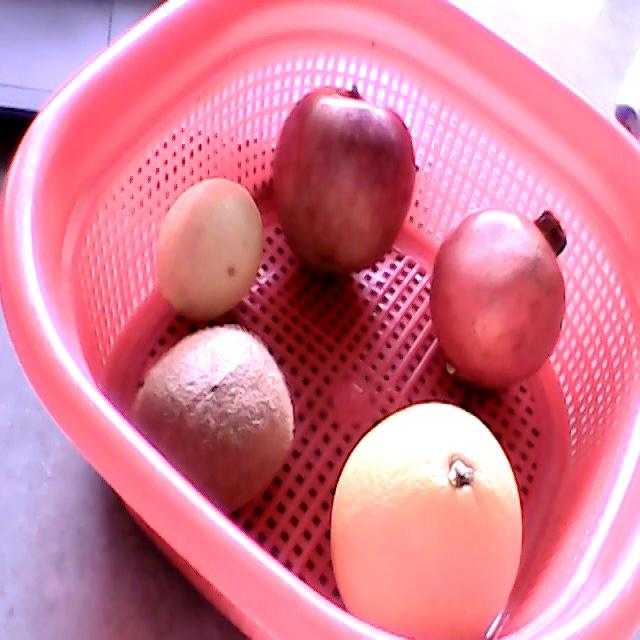apple: (273, 84, 417, 275)
kiwi: (129, 327, 296, 516)
lemon: (157, 179, 264, 322)
orange: (330, 401, 522, 639)
pomegranate: (429, 209, 569, 390)
